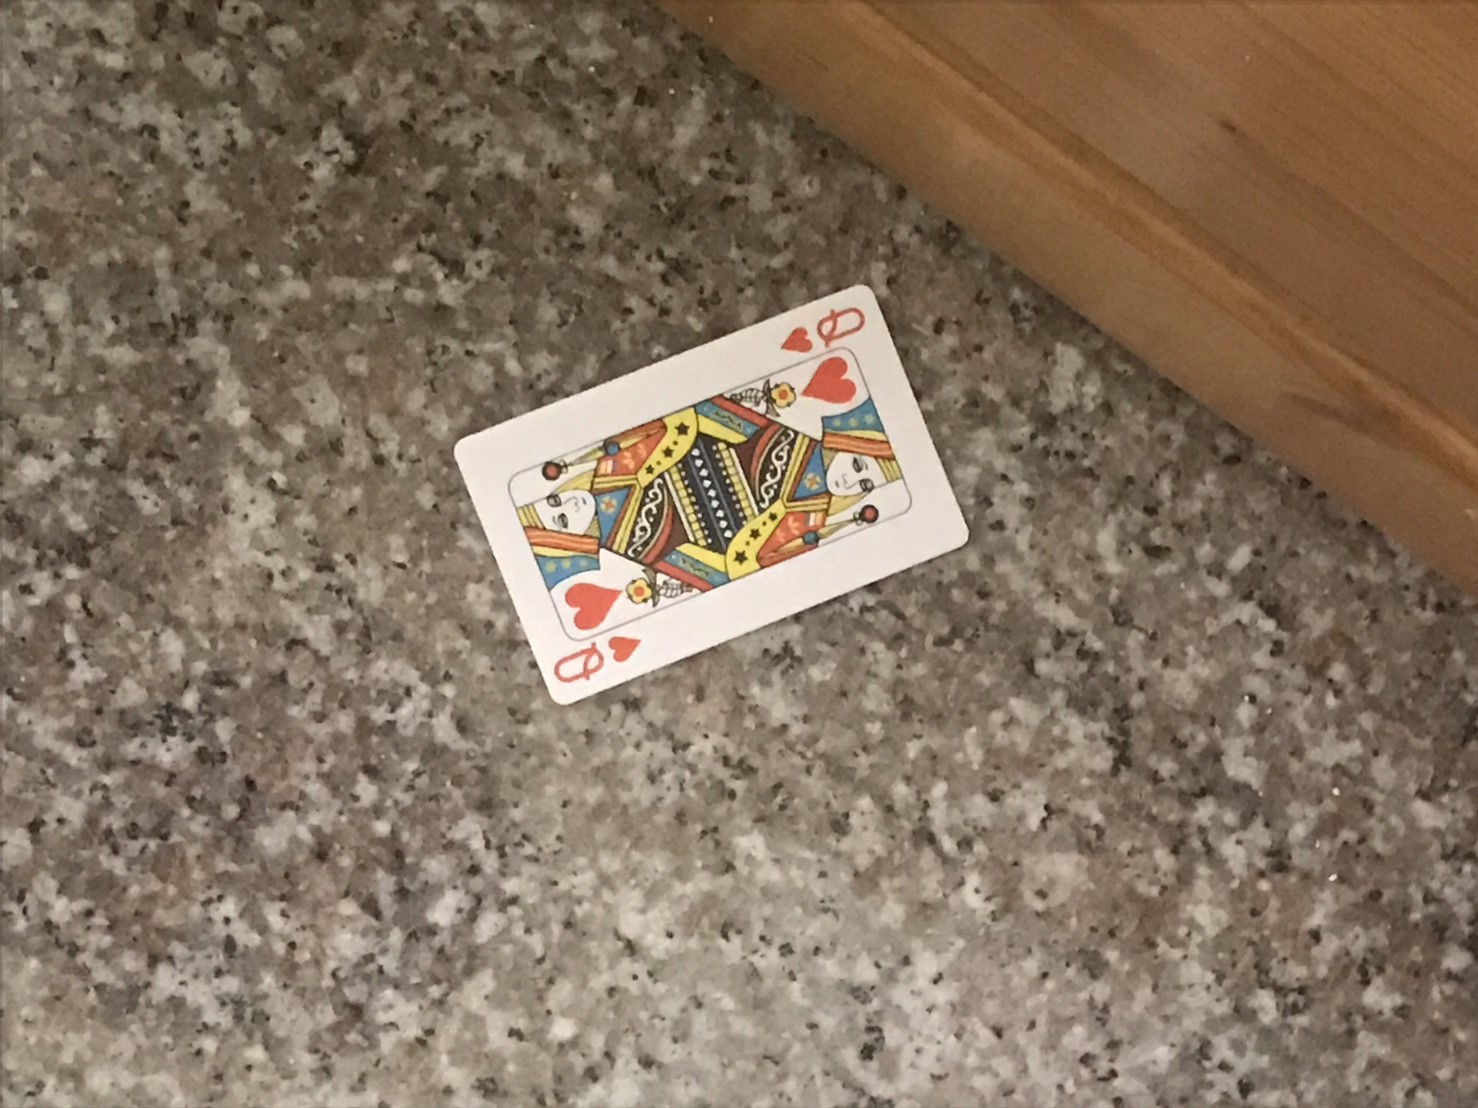hearts: (793, 350, 864, 404), (563, 578, 625, 628), (779, 317, 818, 358), (609, 630, 641, 665)
